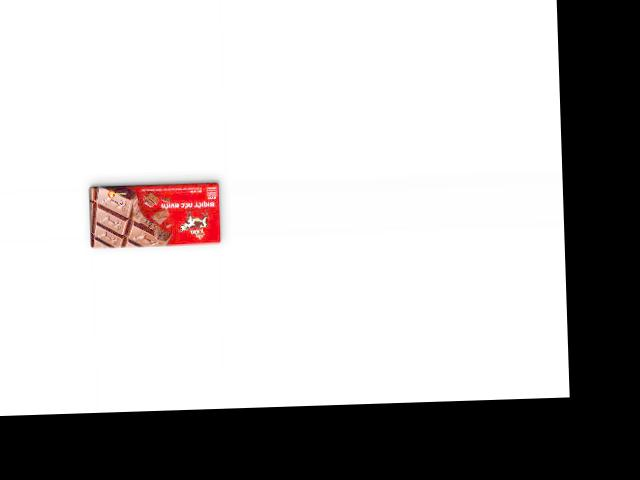chocolate: (86, 177, 224, 251)
